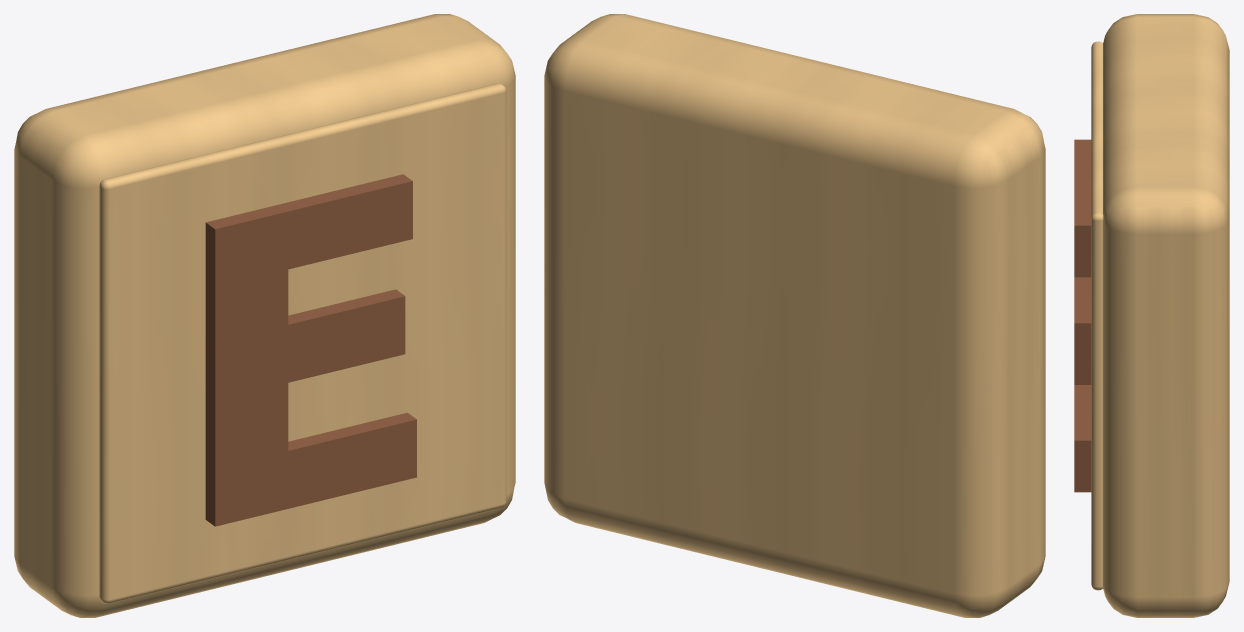
The picture shows the model from 3 angles, left to right: view 1: azimuth 30°, elevation 25°; view 2: azimuth 150°, elevation 25°; view 3: azimuth 270°, elevation 25°; orthographic projection. The views are drawn at different scales.
Parts seen in each view (by area): view 1: Tile_E; view 2: Tile_E; view 3: Tile_E.
Boxes of the visible parts, bbox=[...] form: Tile_E: bbox=[14, 14, 515, 617]; Tile_E: bbox=[544, 14, 1045, 617]; Tile_E: bbox=[1074, 14, 1229, 617].
Bounding box in the file's own units: 0.21 × 0.21 × 0.069.
Materials: 2 (1 with a texture image).
